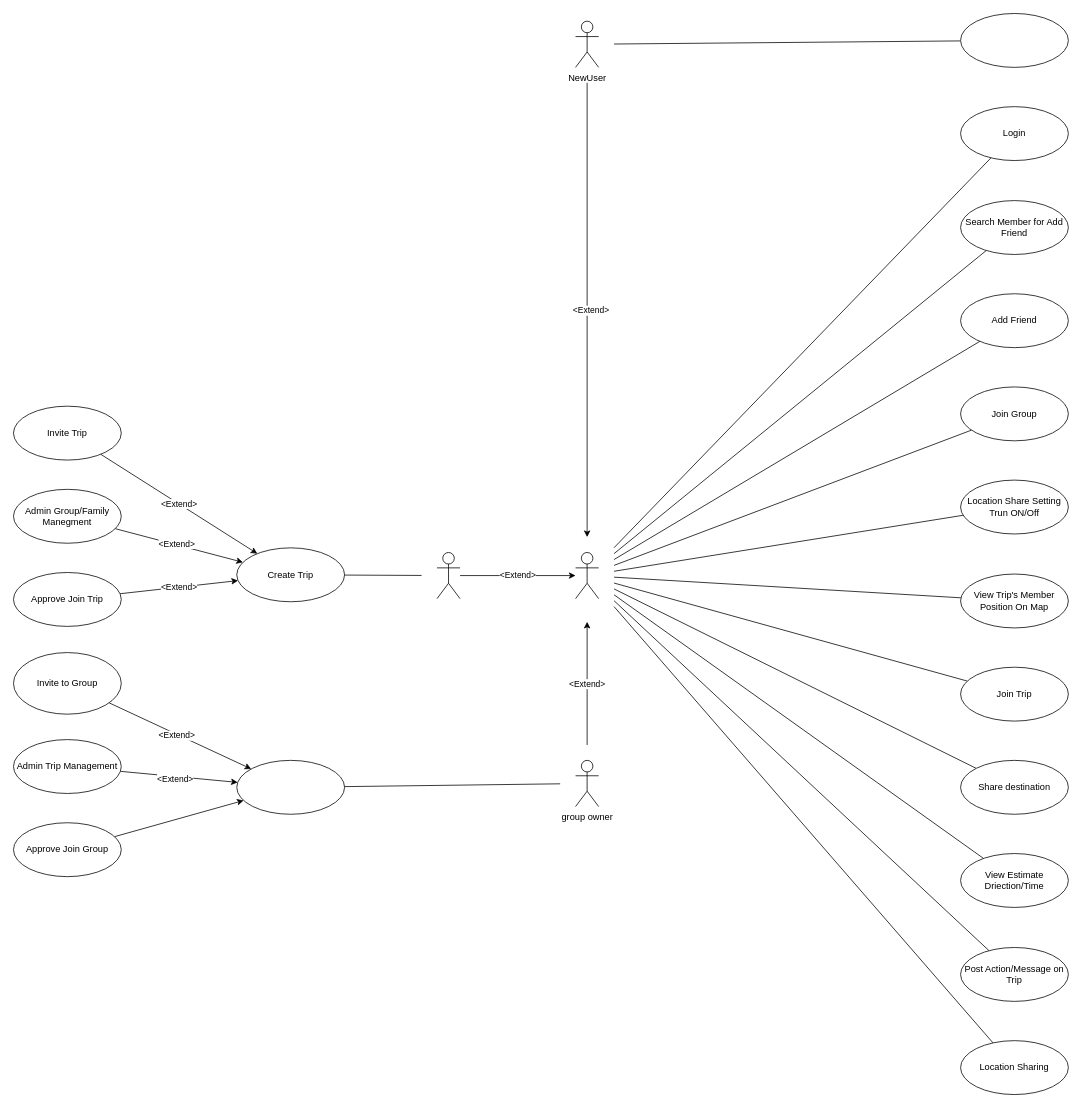
This 1082x1108 diagram has some shape labels left out. Each missing label, with the centre of its shape:
Create Group/Family: pixel 290 787
Register: pixel 1014 40
Trip owner: pixel 448 575
User: pixel 587 575
